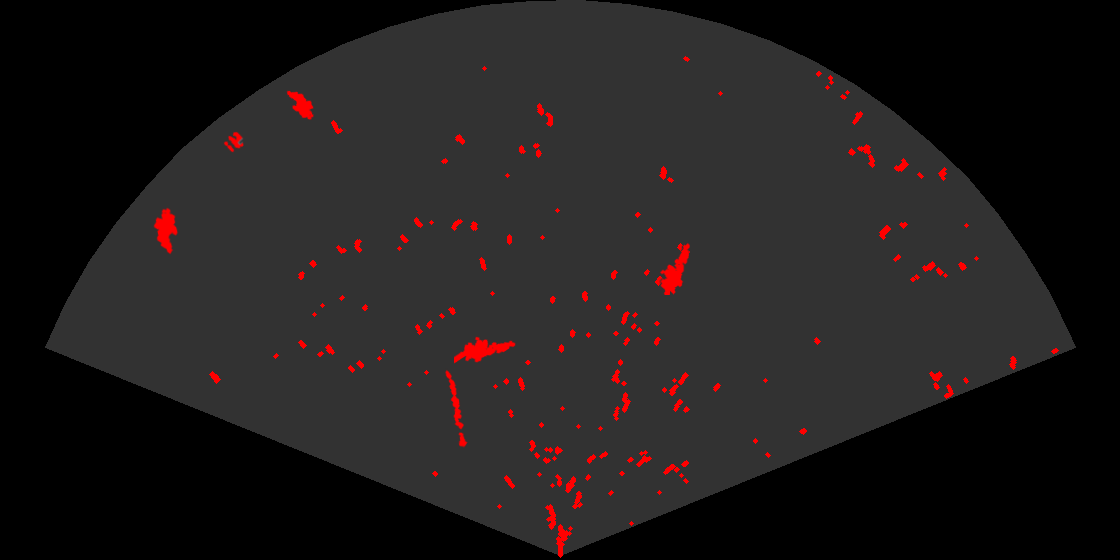AUV: (152, 206, 180, 256), (285, 89, 315, 121)
ball: (222, 130, 245, 154)
chain: (444, 368, 469, 448)
frogman: (454, 335, 517, 365), (658, 241, 691, 295)
